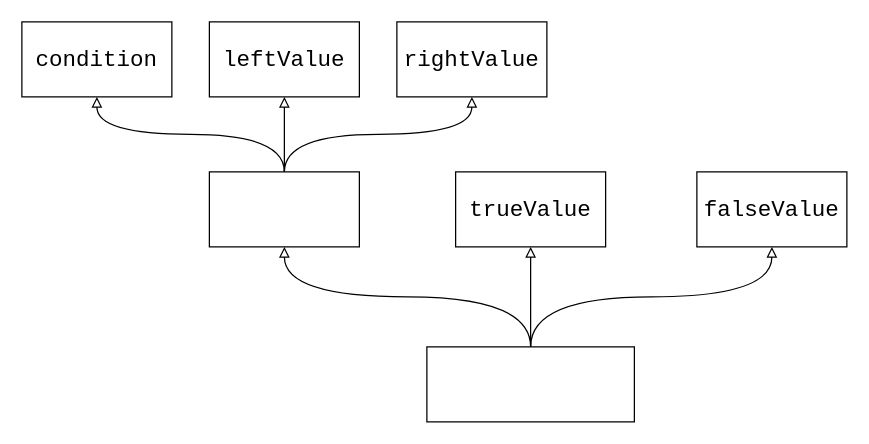
The diagram is 869 pixels wide and 444 high, and some of its shapes have lost their labels. Here are the shapes that lost their labels. From the top down, the centre of each, then its label:
[283,209]: Logic Node
[530,384]: ConditionalNode
